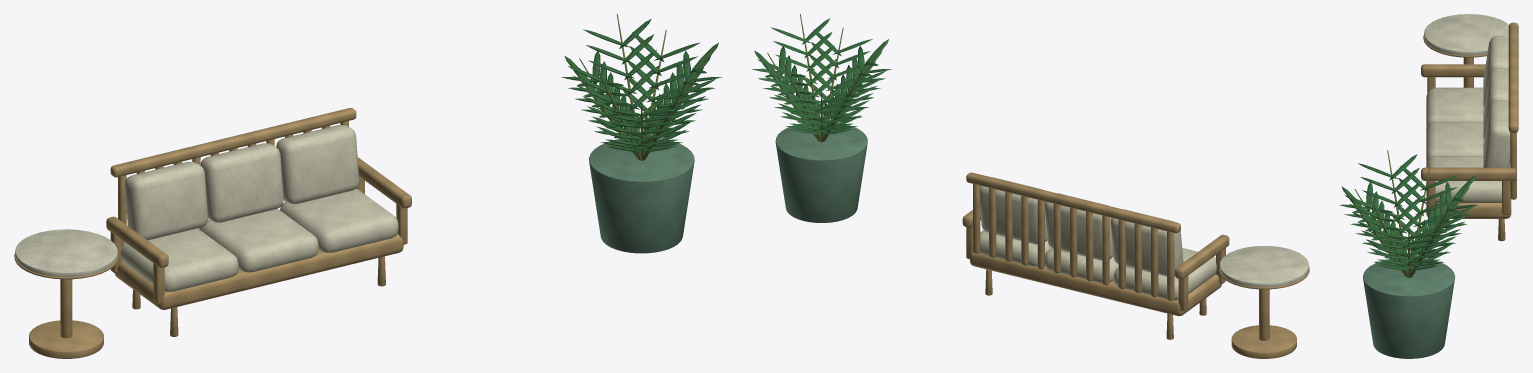
File: glasshouse-furniture.glb
3 renders of one model, left to right at view 1: azimuth 30°, elevation 25°; view 2: azimuth 150°, elevation 25°; view 3: azimuth 270°, elevation 25°, orthographic. The views are drawn at different scales.
Parts seen in each view (by area): view 1: Individual tailored seat cushion, Floating bench frame, Glazed botanical planter, Fine palm leaflet, Honed stone side table, Arching palm stem; view 2: Floating bench frame, Individual tailored seat cushion, Glazed botanical planter, Fine palm leaflet, Honed stone side table, Arching palm stem; view 3: Individual tailored seat cushion, Glazed botanical planter, Fine palm leaflet, Floating bench frame, Honed stone side table, Arching palm stem.
Boxes of the visible parts, <box> form: Individual tailored seat cushion: <box>121,125,398,291</box>; Floating bench frame: <box>14,108,411,358</box>; Glazed botanical planter: <box>589,137,694,253</box>; Fine palm leaflet: <box>561,19,722,152</box>; Honed stone side table: <box>15,229,117,276</box>; Arching palm stem: <box>570,14,712,160</box>; Floating bench frame: <box>962,172,1309,358</box>; Individual tailored seat cushion: <box>979,177,1216,300</box>; Glazed botanical planter: <box>775,121,867,222</box>; Fine palm leaflet: <box>751,18,891,134</box>; Honed stone side table: <box>1219,246,1308,287</box>; Arching palm stem: <box>759,14,883,142</box>; Individual tailored seat cushion: <box>1426,36,1510,202</box>; Glazed botanical planter: <box>1363,257,1455,358</box>; Fine palm leaflet: <box>1339,154,1478,270</box>; Floating bench frame: <box>1421,22,1518,241</box>; Honed stone side table: <box>1424,14,1508,55</box>; Arching palm stem: <box>1347,150,1470,277</box>.
Size of the model in its own units: 4.42 by 1.25 by 1.2.
Materials: 7 (7 with a texture image).
